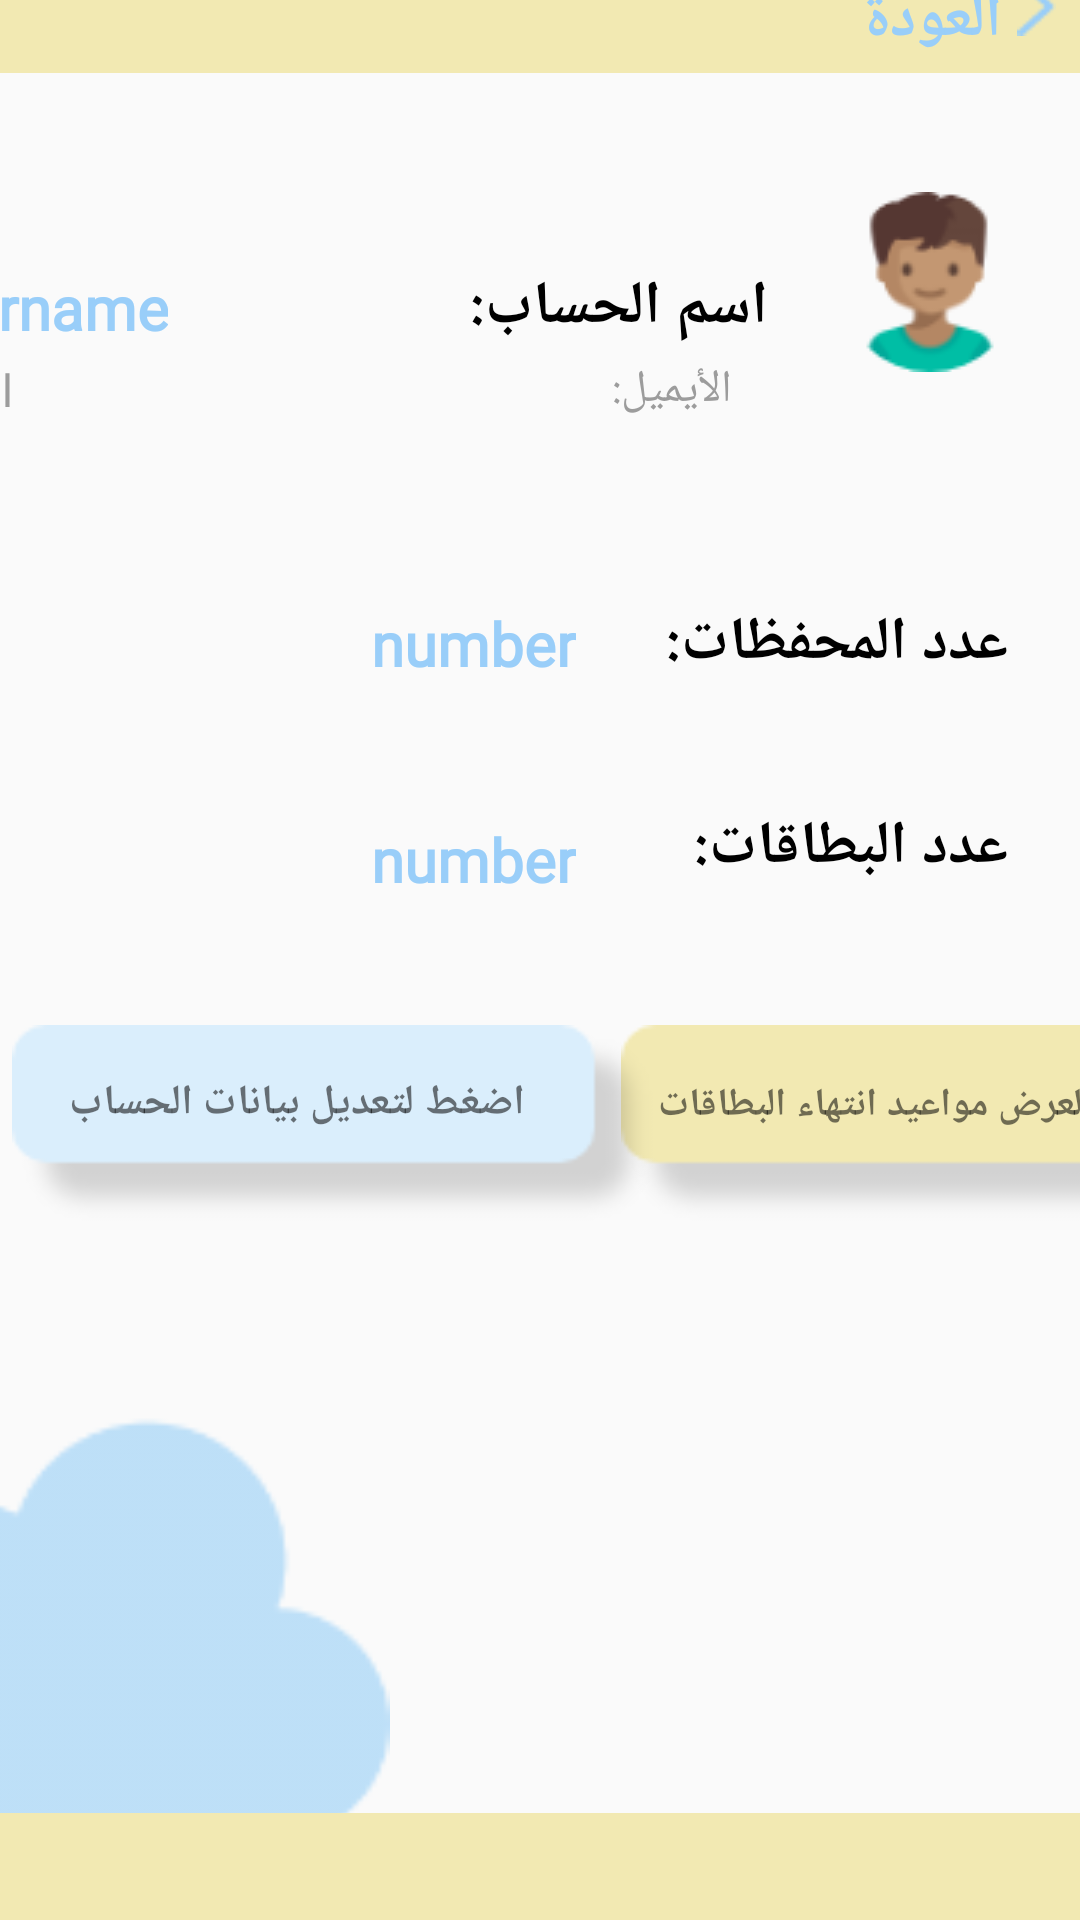

Locate icon controls on the screen. Image size 1080 × 1920, boxes as (x1, y1, x2, y2).
guy: (866, 192, 994, 372)
